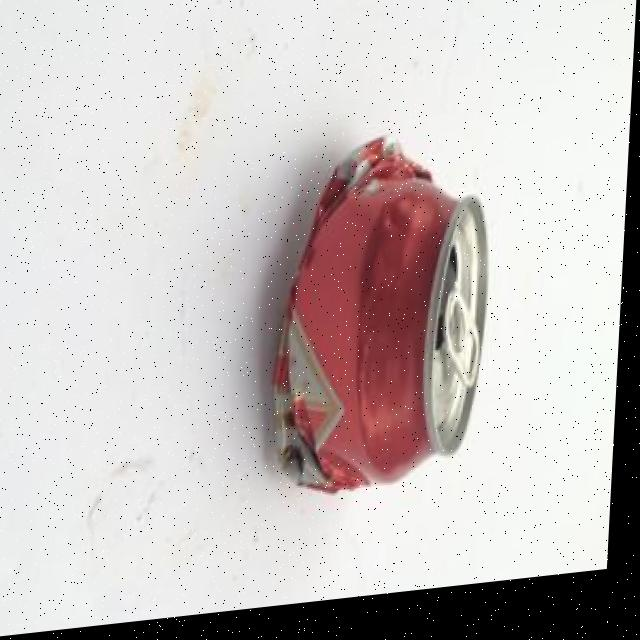metal: (262, 112, 516, 523)
